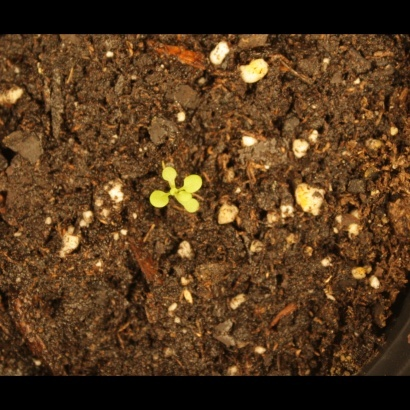leaf: (158, 163, 181, 187), (148, 189, 171, 212), (182, 173, 205, 196), (182, 197, 205, 220), (175, 186, 198, 209)
